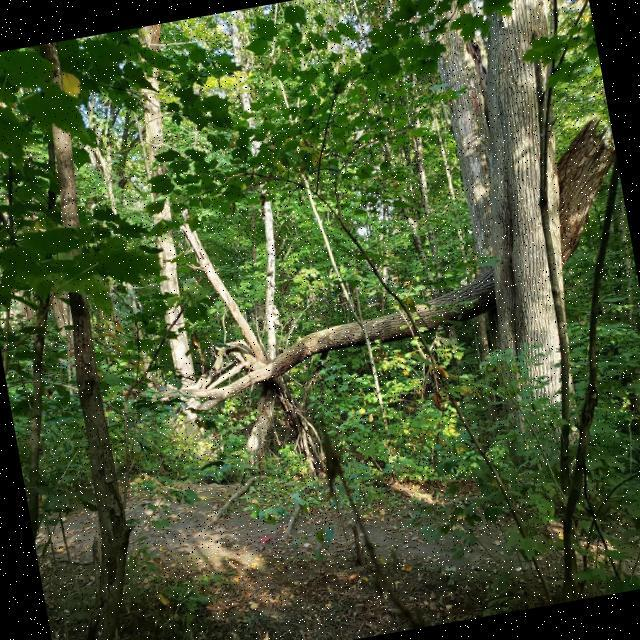fallen_object: (93, 102, 640, 516)
